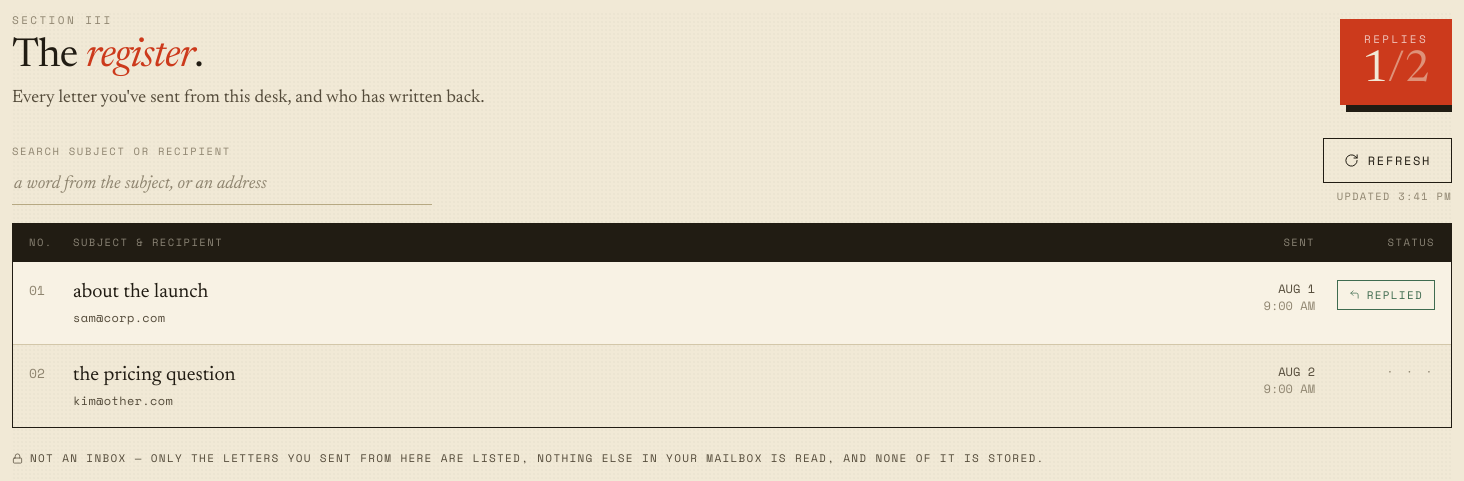
Test case: ThreadsPage — searching the register › ignores a stale search response that lands after a newer one
Expected: the text "about the launch" is shown, x1=73 y1=282 x2=208 y2=302
In the search field labelled "Search subject or recipient": (222, 185) x1=12 y1=165 x2=432 y2=205, type "a"
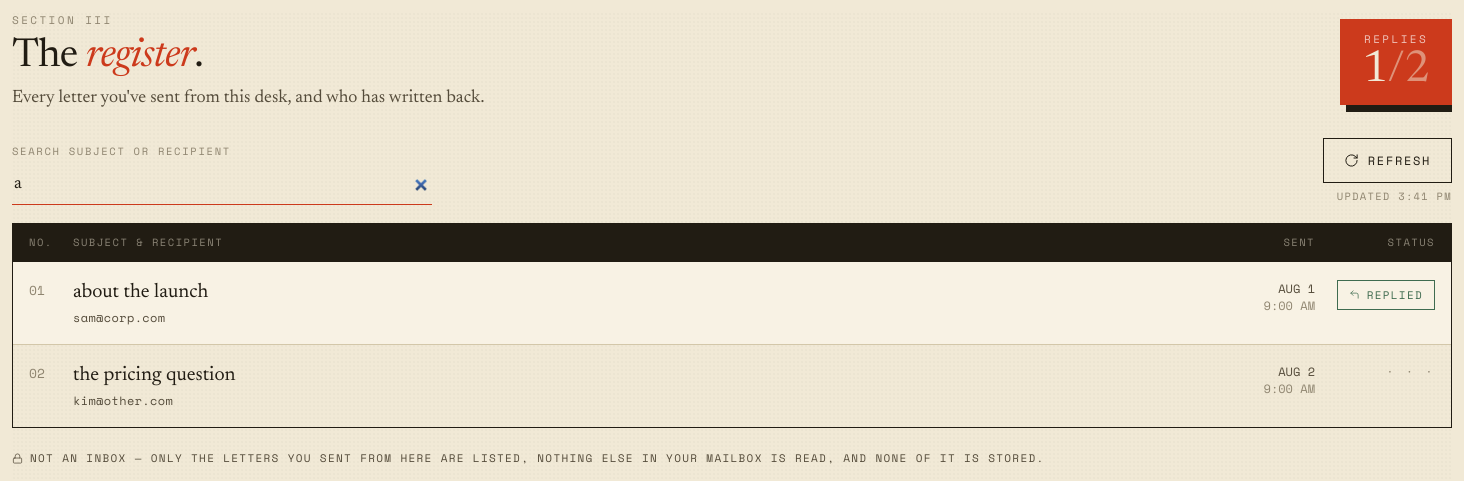
In the search field labelled "Search subject or recipient": (222, 185) x1=12 y1=165 x2=432 y2=205, type "b"
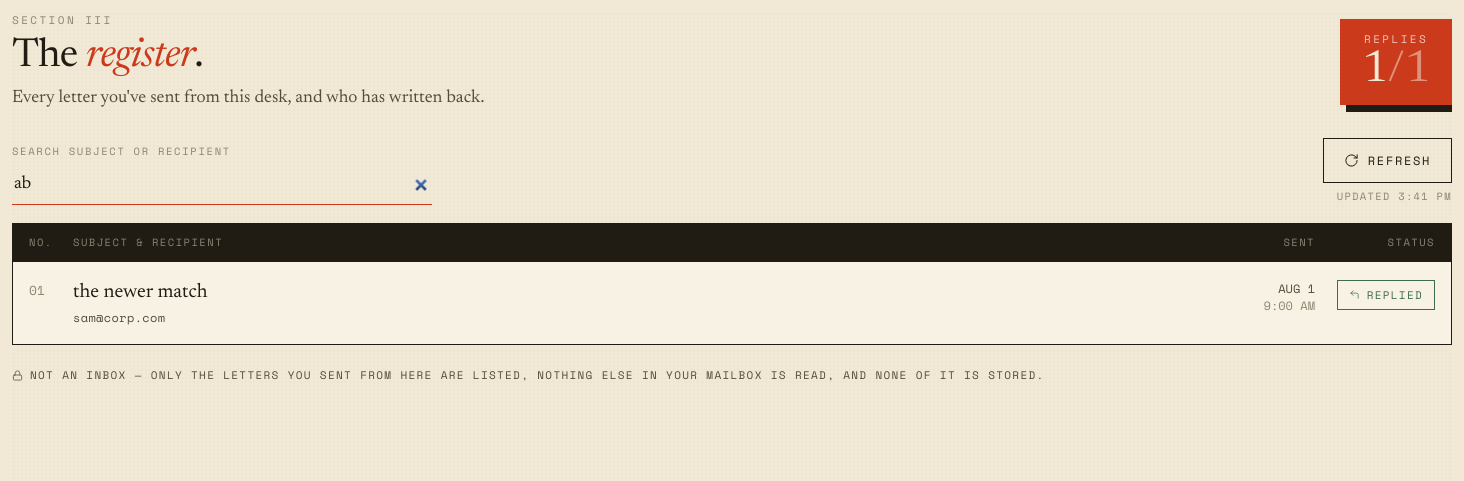
Result: the text "the newer match" is shown at x1=73 y1=282 x2=208 y2=302
